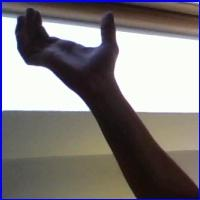space: (15, 5, 132, 88)
